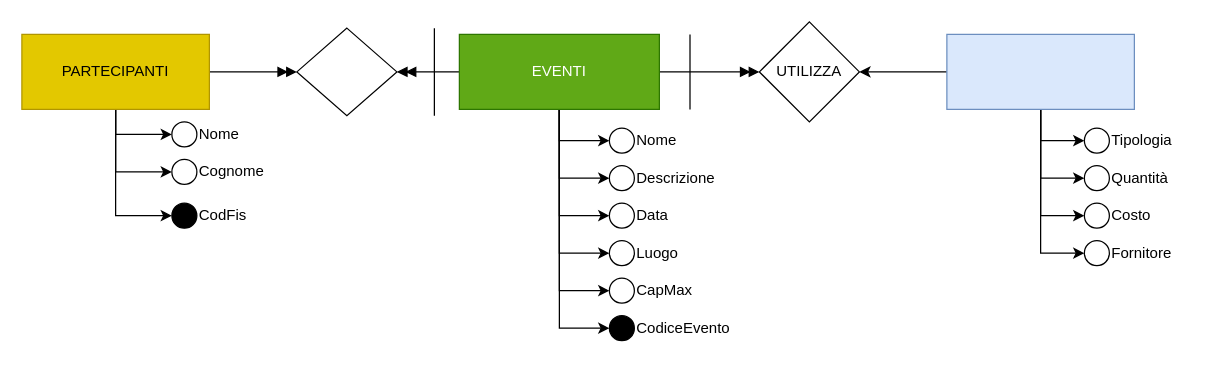
Image size: 1219x369. Some labels were removed from this diagram. Each missing label, with the box of its shape:
PARTECIPA: (296, 27, 397, 116)
RISORSE: (946, 33, 1134, 109)
